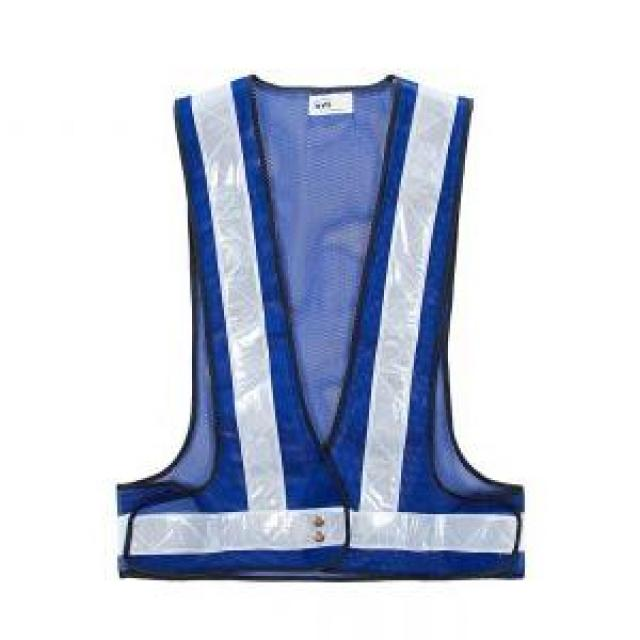Reflective-Jacket: (38, 25, 576, 620)
